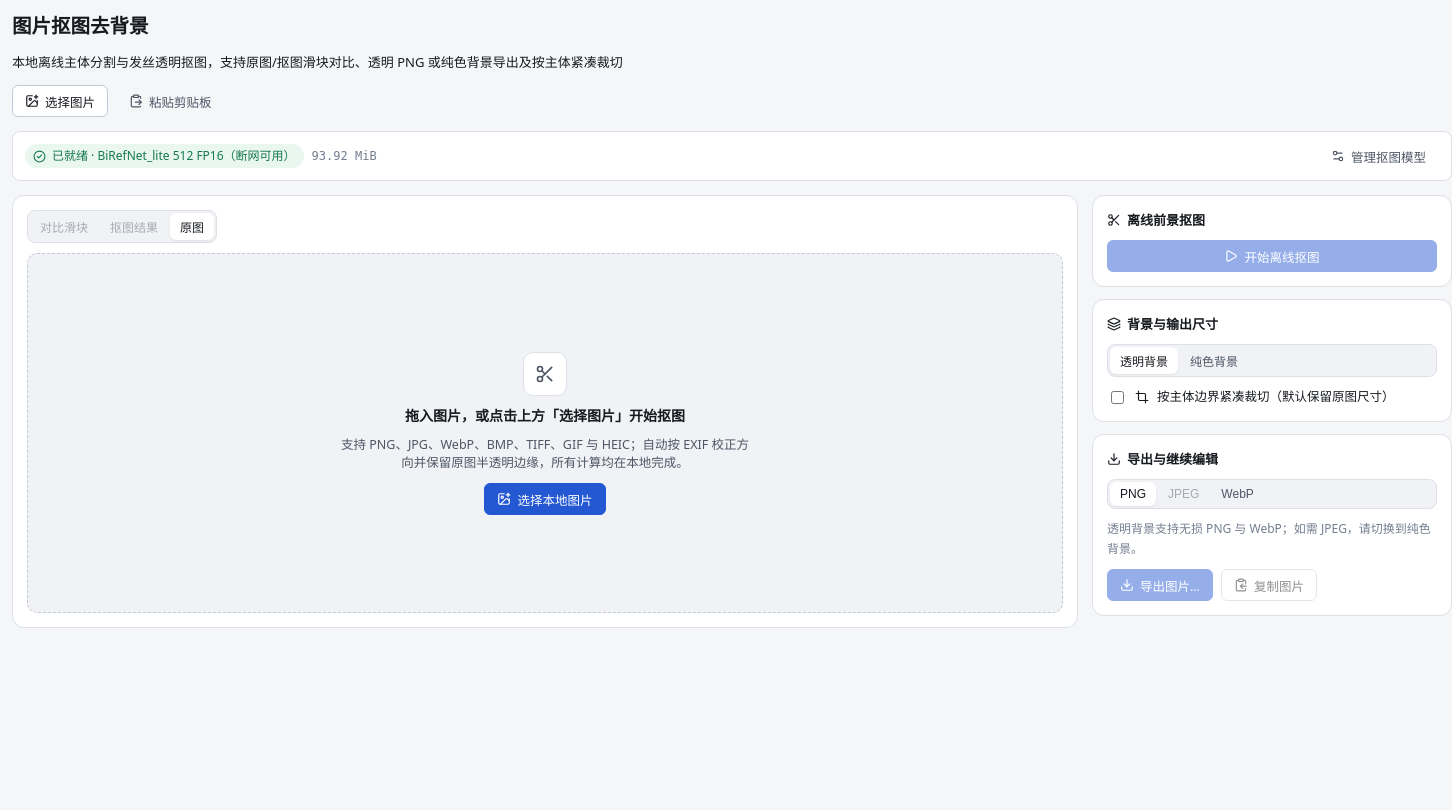
Test: RemoveBackgroundWorkspace (I04) › cancels in-flight matting and recovers cleanly for immediate retry
Later steps or results of the test are not shown.
Check: the element with test id "matting-model-compact-bar" is shown, box [12,131,1451,181]
Click the button with test id "i04-pick-image-btn".
click(60, 101)  # box [12,85,108,117]
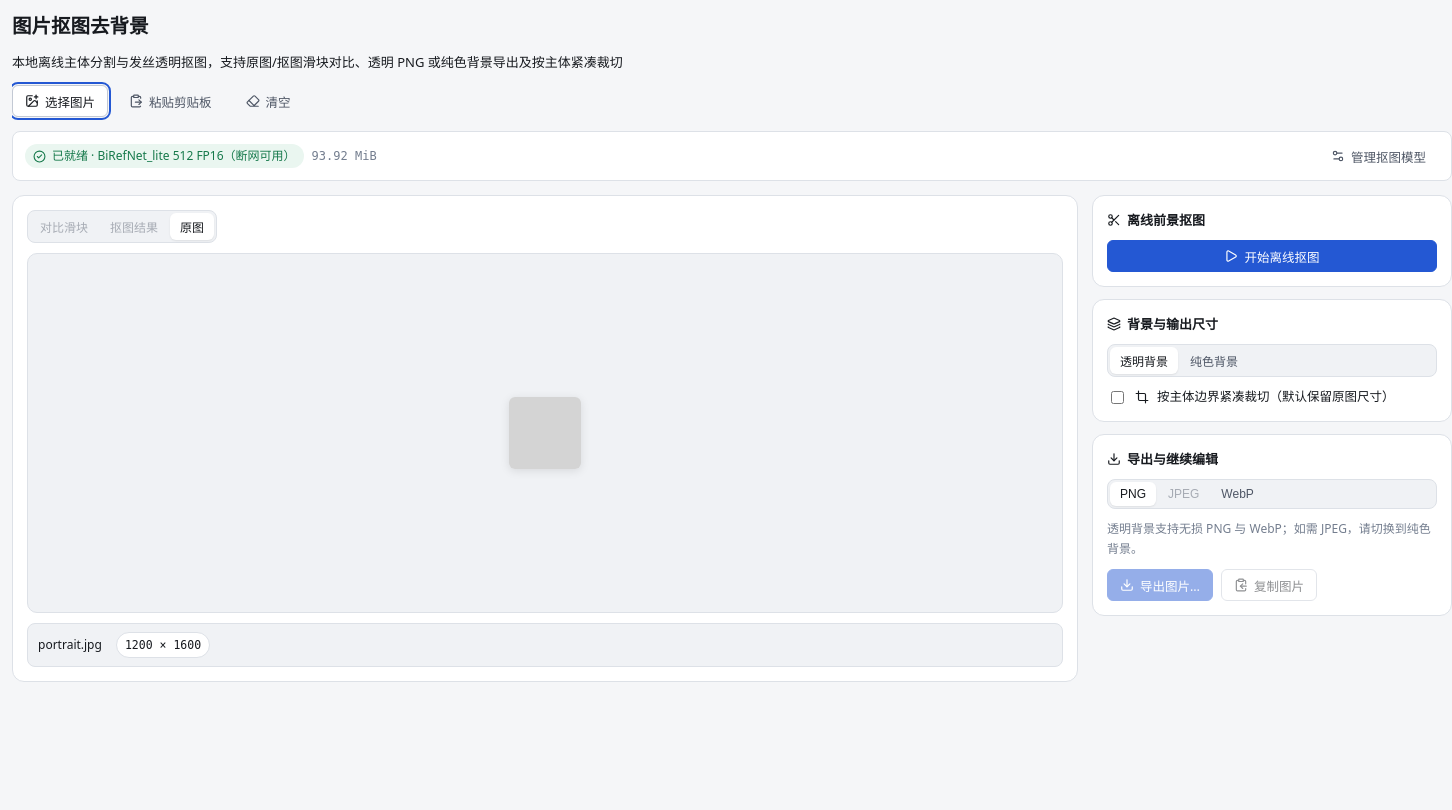
Check: the button with test id "i04-start-btn" is enabled
Click the button with test id "i04-start-btn".
click(1272, 256)  # box [1107,240,1437,272]
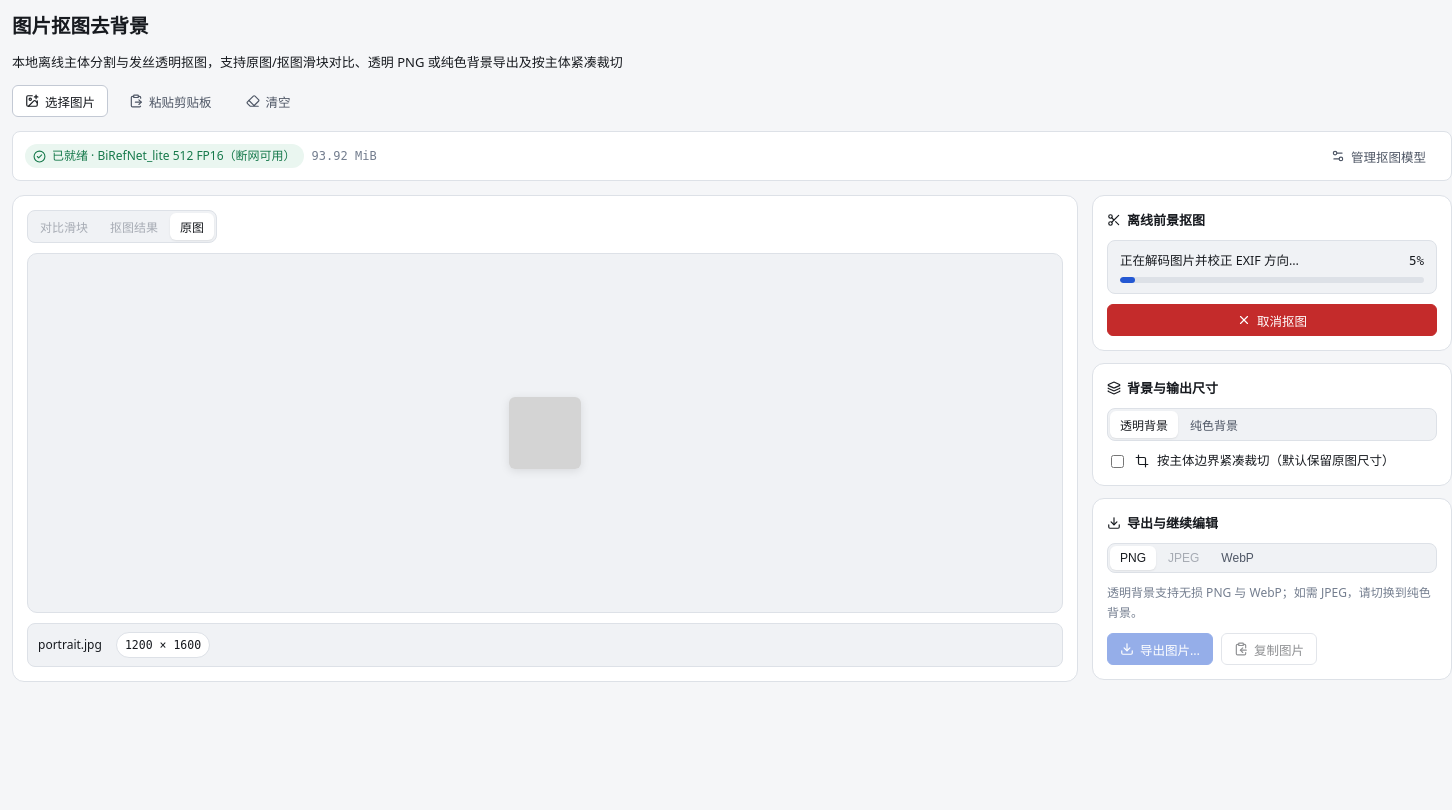
Check: the button with test id "i04-cancel-btn" is shown
Click the button with test id "i04-cancel-btn".
click(1272, 320)  # box [1107,304,1437,336]
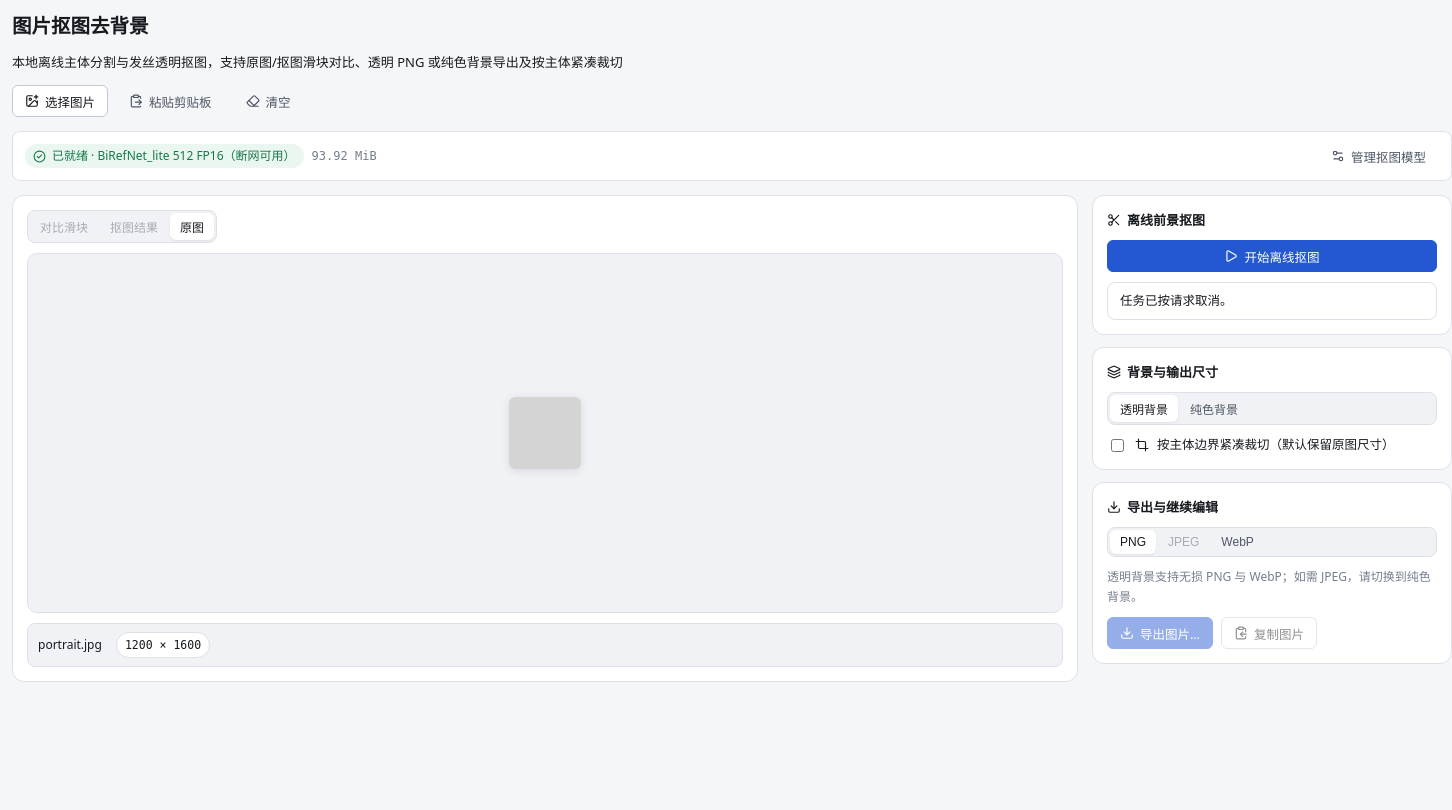
Check: the button with test id "i04-start-btn" is enabled, box [1107,240,1437,272]
